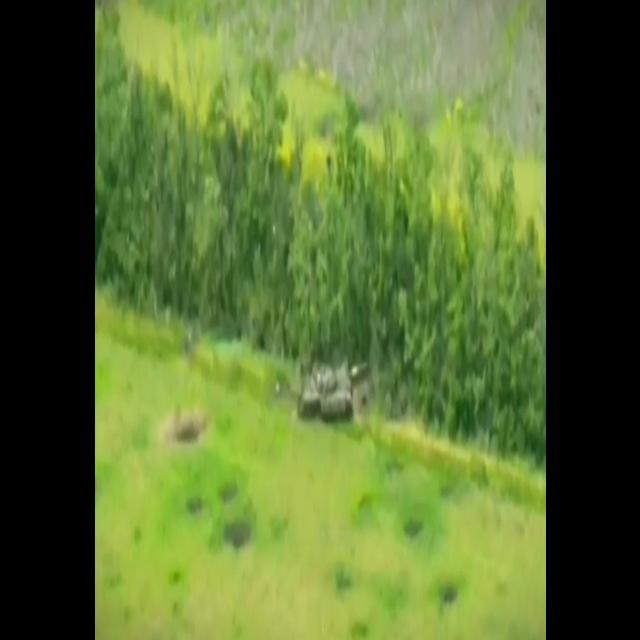MBT: (299, 357, 369, 422)
